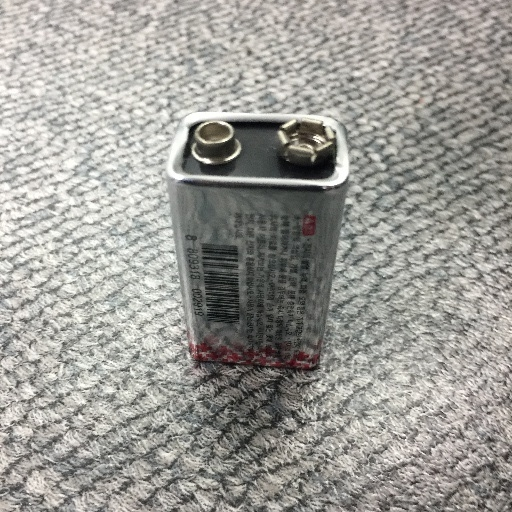Battery_3: (156, 91, 355, 394)
